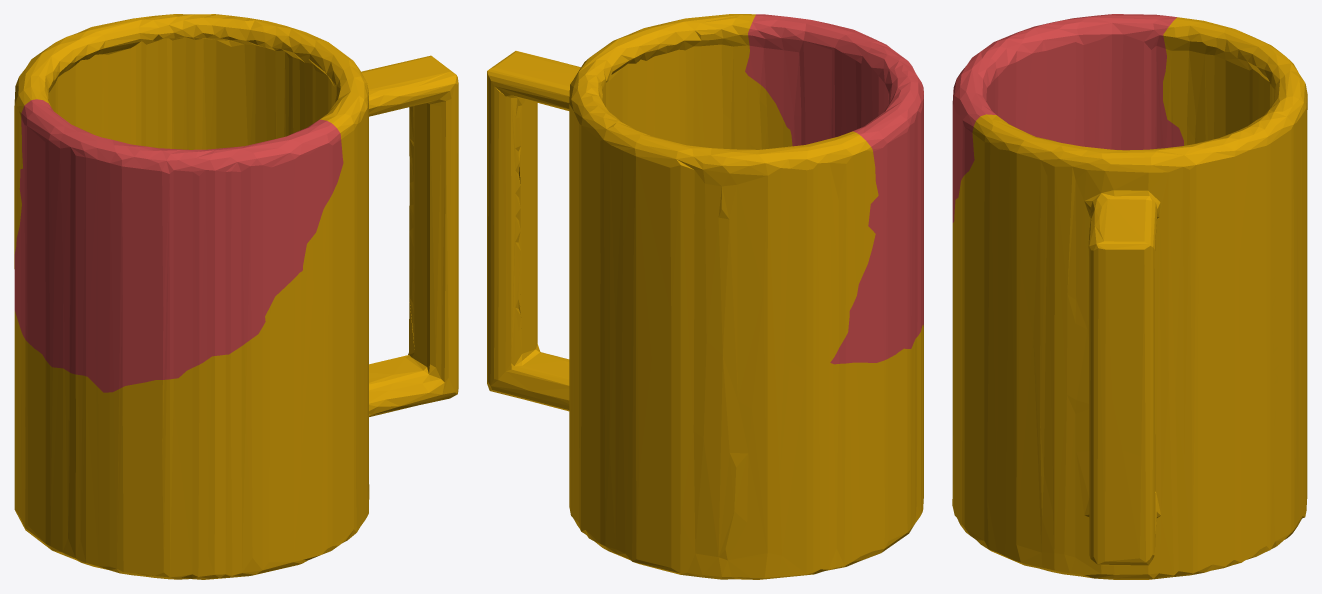
File: fractured_46_2pcs.glb
The picture shows the model from 3 angles, left to right: view 1: azimuth 30°, elevation 25°; view 2: azimuth 150°, elevation 25°; view 3: azimuth 270°, elevation 25°; orthographic projection.
Visible parts, largest first — view 1: piece_0.obj, piece_1.obj; view 2: piece_0.obj, piece_1.obj; view 3: piece_0.obj, piece_1.obj.
Part boxes in pixels (left/top/right/bottom): piece_0.obj: left=14, top=14, right=458, bottom=579; piece_1.obj: left=14, top=99, right=343, bottom=392; piece_0.obj: left=487, top=14, right=923, bottom=579; piece_1.obj: left=745, top=14, right=923, bottom=364; piece_0.obj: left=952, top=17, right=1307, bottom=579; piece_1.obj: left=952, top=14, right=1183, bottom=222.
Bounding box in the file's own units: 0.9993 × 1 × 0.7582.
